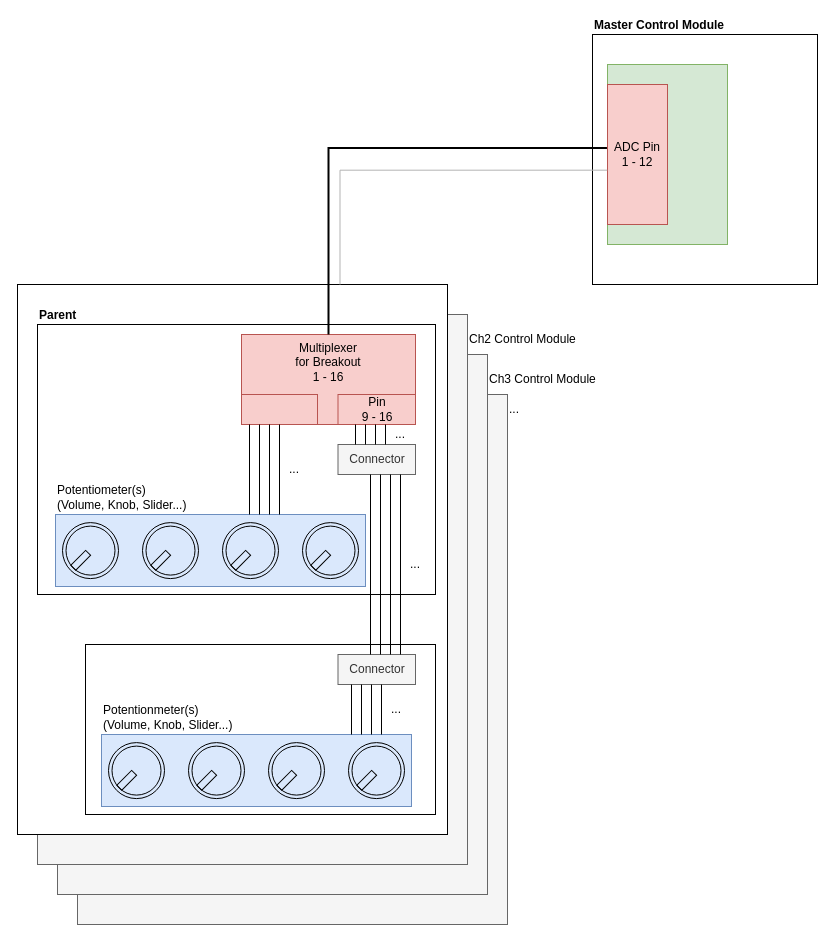
Image size: 835x942. Some labels were removed from this diagram. The shapes that lost their labels are listed below. From the top down, each one's box as (x1, y1, x2, y2) in pixels, then its label:
(606, 64, 728, 244): Arduino Leonardo
(240, 394, 318, 424): Pin 1 - 8
(16, 284, 448, 834): Ch1 Control Module
(84, 644, 436, 814): Child
